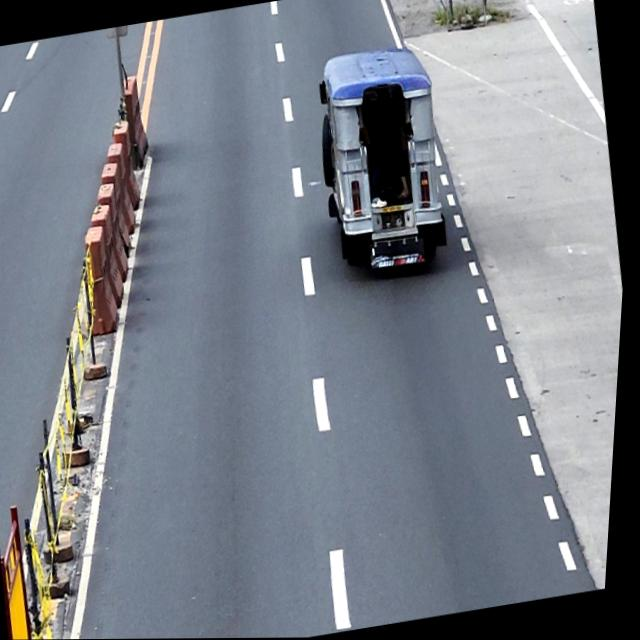Jeep: (303, 40, 464, 281)
License-Plate: (382, 211, 411, 234)
